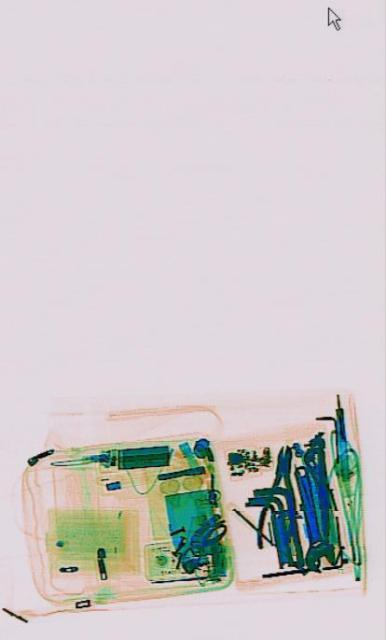Pliers: (253, 440, 300, 554)
Wrench: (284, 456, 335, 578)
